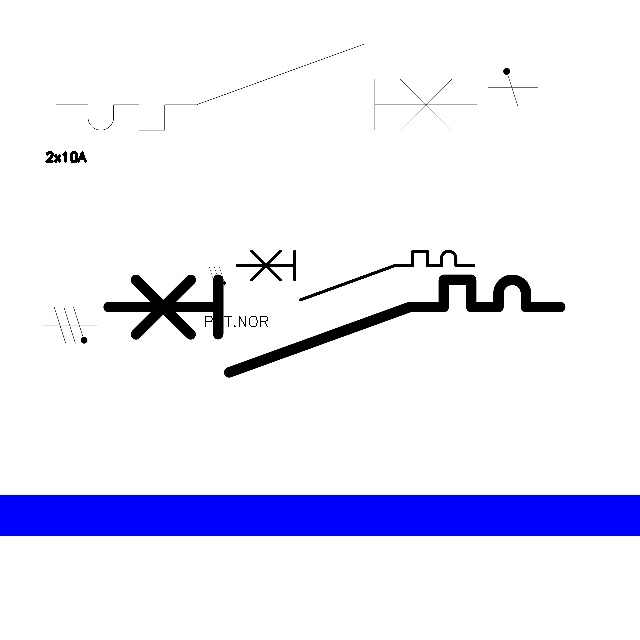interruptor_termomagnetico: (96, 268, 571, 384), (45, 33, 488, 141), (231, 245, 480, 306)
